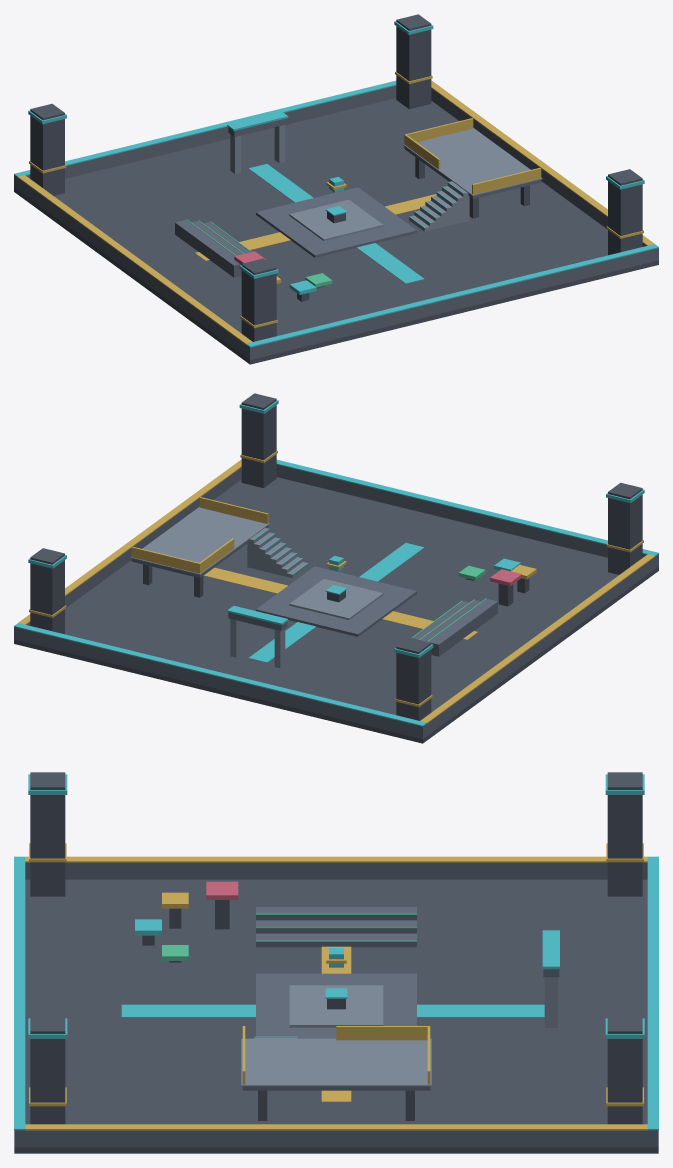
The model's file is environment.glb.
3 views of the same model, one above another, from view 1: azimuth 30°, elevation 25°; view 2: azimuth 150°, elevation 25°; view 3: azimuth 270°, elevation 25° (orthographic). The views are drawn at different scales.
Size of the model in its own units: 48.04 by 9.5 by 48.04.
